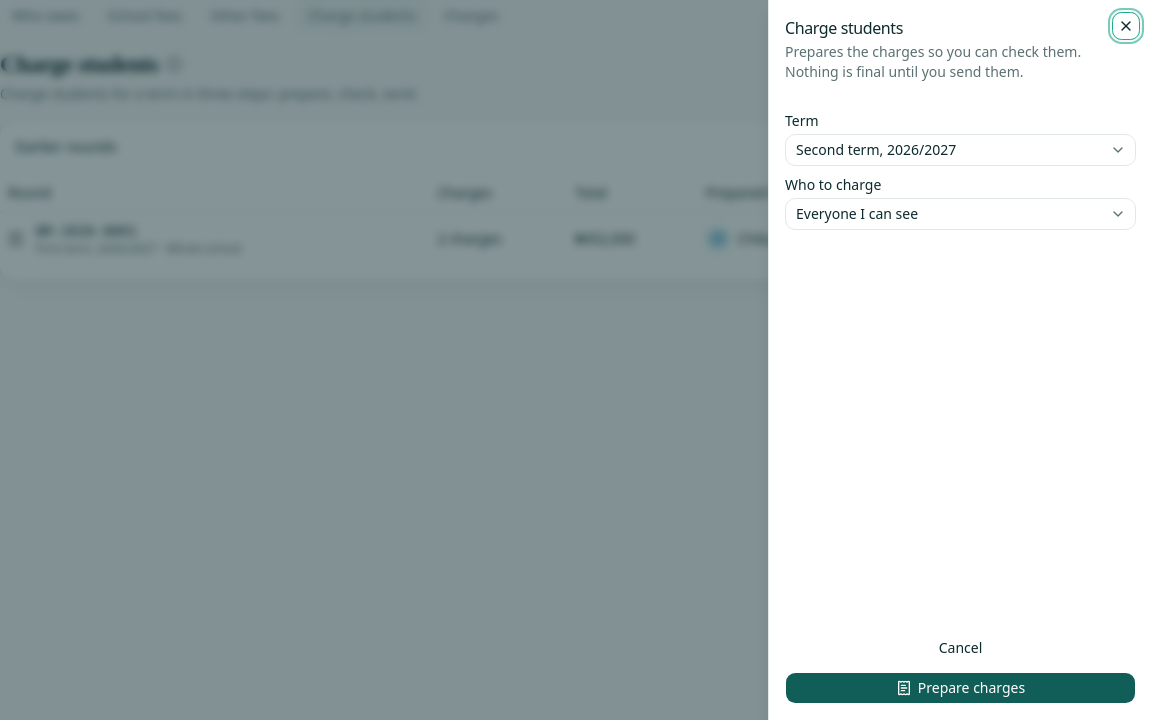
Test: the prepare sheet › adds the students with no fees to the ready callout
This screenshot has width=1152, height=720.
Expected: the dropdown labelled "Term" is shown, [785, 134, 1136, 166]
Click the button "Prepare charges": [960, 688] box [785, 672, 1136, 704]
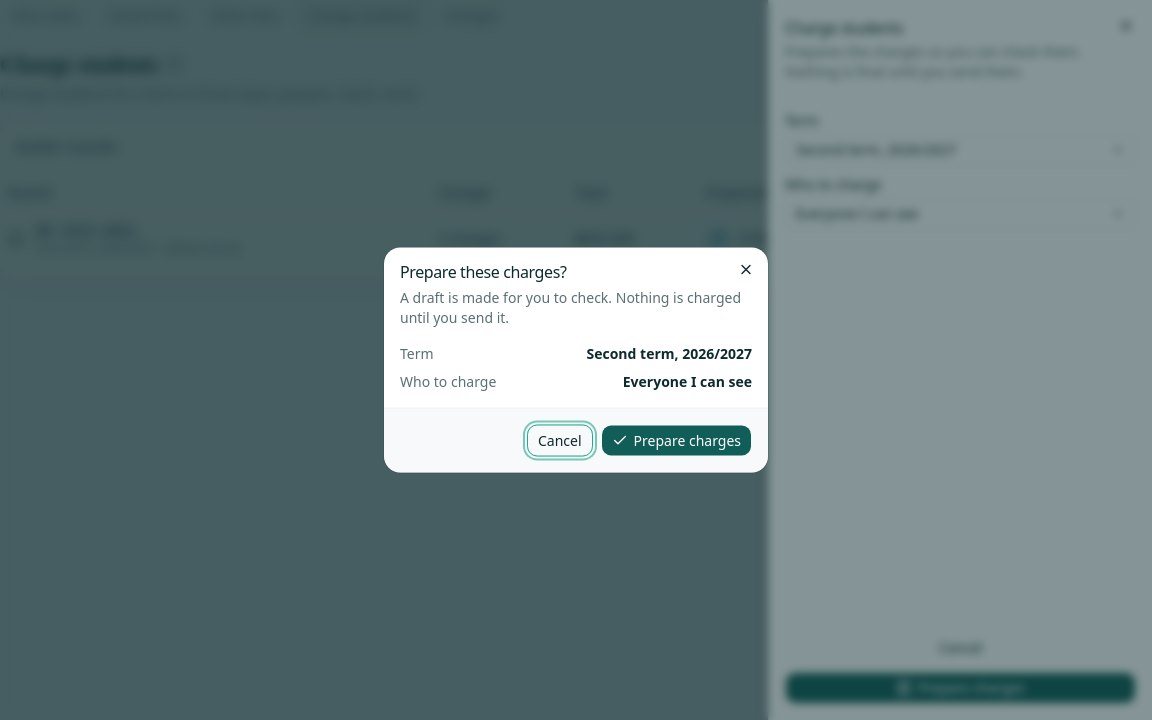
Click the button "Prepare charges": [676, 440] box [600, 424, 752, 456]
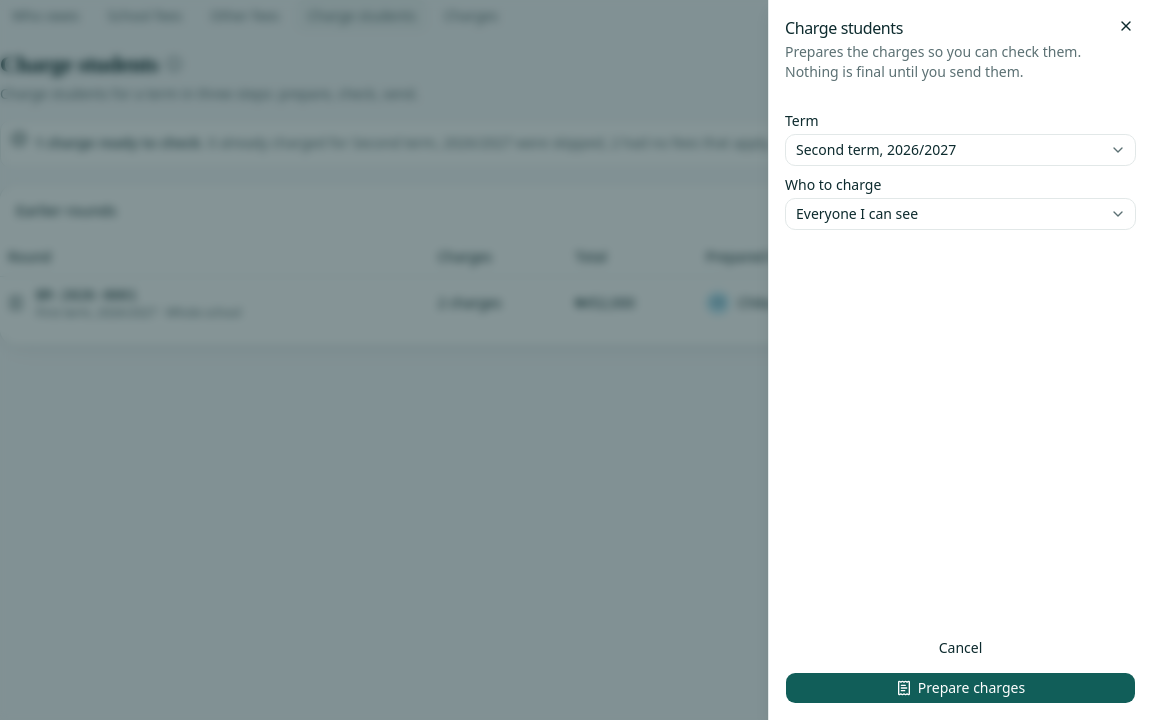
Expected: the text "2 had no fees that apply" is shown, [604, 133, 768, 152]
Expected: the text "1 charge ready to check" is shown, [35, 133, 201, 152]
